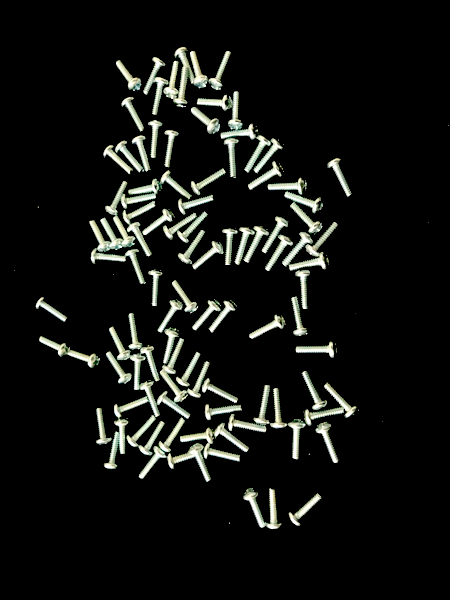shortscrew: (324, 381, 361, 419), (288, 489, 324, 528), (327, 153, 356, 198), (305, 221, 340, 258), (281, 231, 315, 267), (253, 137, 286, 174), (213, 422, 249, 453), (301, 370, 328, 411), (265, 235, 294, 273), (261, 216, 290, 254), (208, 49, 234, 91), (290, 202, 323, 235), (126, 414, 158, 448), (157, 390, 193, 420), (242, 487, 267, 530), (315, 421, 340, 464), (248, 161, 285, 190), (191, 241, 225, 272), (209, 300, 240, 334), (244, 134, 271, 173), (114, 139, 144, 174), (158, 417, 187, 453), (141, 56, 167, 96), (191, 168, 228, 196), (243, 225, 270, 263), (192, 298, 222, 332), (172, 278, 200, 314), (189, 443, 214, 483), (103, 144, 135, 175), (160, 170, 193, 200), (249, 314, 287, 340), (139, 420, 165, 458), (138, 447, 166, 482), (157, 298, 184, 334), (106, 350, 133, 386), (176, 351, 202, 388), (114, 58, 143, 91), (186, 361, 211, 399), (283, 192, 324, 215), (121, 96, 146, 133), (127, 221, 152, 258), (141, 208, 174, 236), (289, 252, 330, 274), (190, 106, 221, 135), (104, 180, 128, 217), (162, 337, 186, 374), (202, 379, 239, 403), (34, 296, 68, 322), (109, 324, 132, 362), (167, 447, 203, 471), (100, 217, 126, 250), (174, 47, 197, 84), (122, 200, 156, 225), (303, 406, 345, 426), (228, 413, 268, 434), (161, 372, 188, 403), (177, 194, 215, 216), (140, 379, 162, 417), (124, 249, 147, 285), (253, 385, 273, 426), (267, 176, 308, 196), (234, 225, 255, 264), (296, 340, 339, 359), (173, 66, 192, 108), (113, 215, 137, 248), (89, 219, 112, 253), (290, 296, 309, 337), (190, 49, 209, 90), (223, 138, 242, 179), (132, 135, 153, 172), (150, 77, 169, 117), (269, 388, 287, 430), (140, 346, 161, 382), (266, 487, 283, 531), (289, 418, 306, 462), (163, 61, 182, 100), (221, 122, 260, 141), (102, 432, 121, 471), (220, 227, 239, 266), (203, 402, 242, 421), (114, 397, 149, 418), (147, 269, 166, 307), (203, 444, 241, 463), (69, 346, 100, 369), (294, 270, 312, 309), (127, 312, 145, 351), (227, 90, 244, 131), (147, 121, 165, 159), (164, 130, 182, 168), (95, 409, 113, 447), (39, 336, 70, 358), (127, 178, 162, 197), (180, 426, 215, 445), (89, 249, 127, 266), (163, 328, 180, 366), (197, 94, 232, 112), (114, 417, 130, 455), (120, 193, 157, 209), (130, 354, 146, 391)
